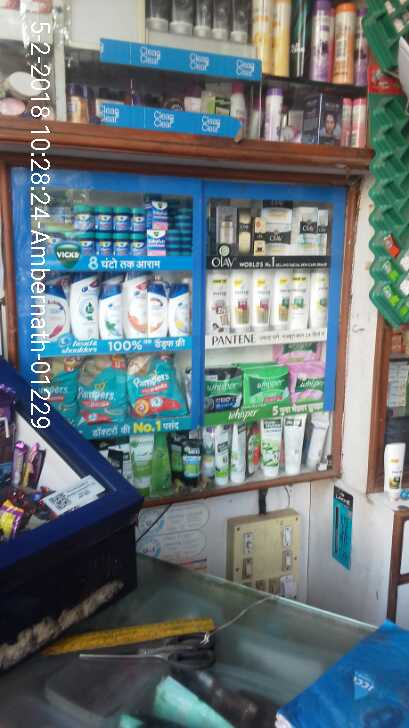beauty: (66, 265, 98, 342), (119, 267, 146, 343), (35, 277, 69, 334), (293, 204, 331, 252), (253, 211, 294, 253), (230, 268, 252, 336), (210, 263, 231, 334), (251, 266, 273, 331), (98, 285, 121, 347), (206, 202, 236, 248), (269, 271, 291, 326), (291, 267, 309, 327), (310, 270, 330, 323), (149, 284, 168, 335), (173, 283, 189, 333)
pharmacy: (131, 352, 192, 419), (77, 357, 130, 421), (196, 366, 242, 407), (236, 368, 285, 396), (291, 370, 327, 399), (148, 196, 170, 230), (74, 229, 98, 255), (128, 207, 148, 234), (90, 236, 117, 256), (112, 211, 134, 235), (122, 236, 144, 257), (150, 227, 164, 256), (112, 235, 132, 255), (95, 210, 111, 234), (74, 205, 90, 229)
